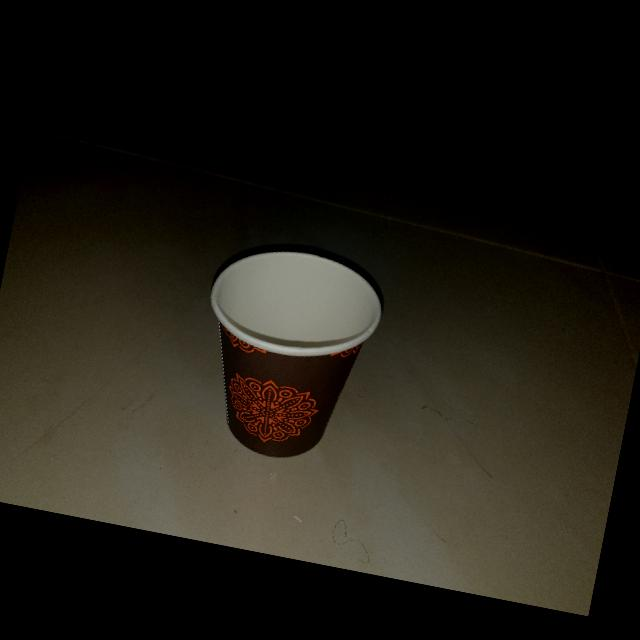trash: (177, 228, 401, 482)
